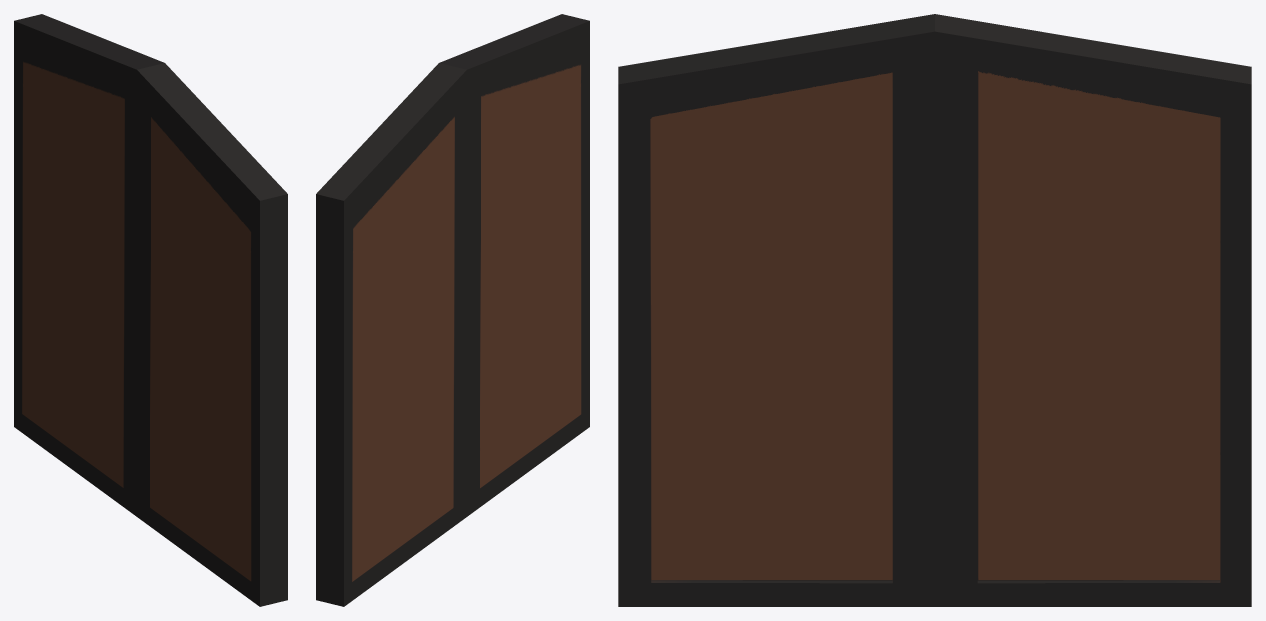
The model's file is door.dae.
The picture shows the model from 3 angles, left to right: view 1: azimuth 30°, elevation 25°; view 2: azimuth 150°, elevation 25°; view 3: azimuth 270°, elevation 25°; orthographic projection. The views are drawn at different scales.
Parts seen in each view (by area): view 1: Cube; view 2: Cube; view 3: Cube.
Boxes of the visible parts, bbox=[...] form: Cube: bbox=[14, 14, 287, 606]; Cube: bbox=[316, 14, 589, 606]; Cube: bbox=[618, 14, 1251, 606].
Size of the model in its own units: 0.5205 by 7.92 by 7.94.
Materials: 1 (1 with a texture image).
